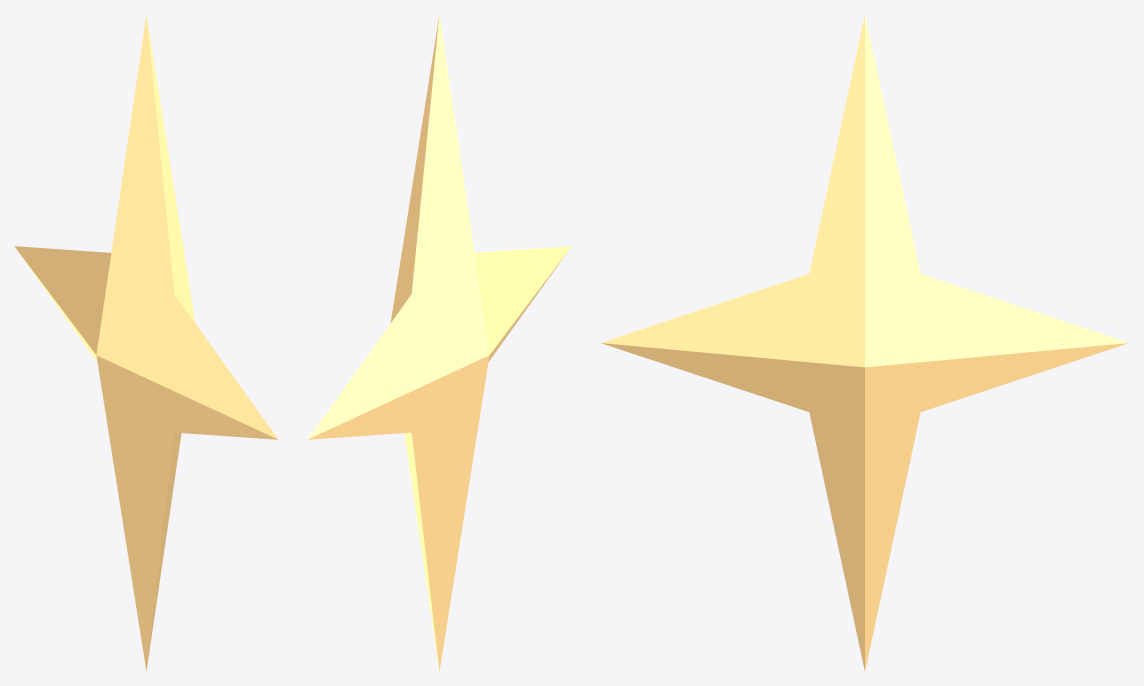
The model's file is Ray.fbx.
The picture shows the model from 3 angles, left to right: view 1: azimuth 30°, elevation 25°; view 2: azimuth 150°, elevation 25°; view 3: azimuth 270°, elevation 25°; orthographic projection.
Visible parts, largest first — view 1: Star; view 2: Star; view 3: Star.
Boxes of the visible parts, x1,y1,x2,y2 form: Star: (14,14,278,671); Star: (307,14,571,671); Star: (601,15,1128,670).
Size of the model in its own units: 43.73 by 274 by 200.
